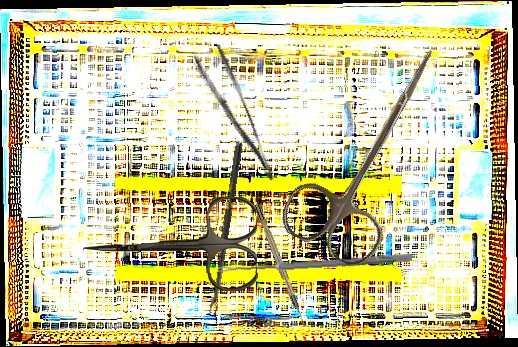Dressing Forceps: (190, 42, 278, 192)
Hook Surgical: (253, 203, 308, 328)
Iris Scissors: (274, 24, 472, 274), (82, 196, 258, 294)
Surgical Spoon: (208, 141, 243, 315), (217, 252, 413, 275)
